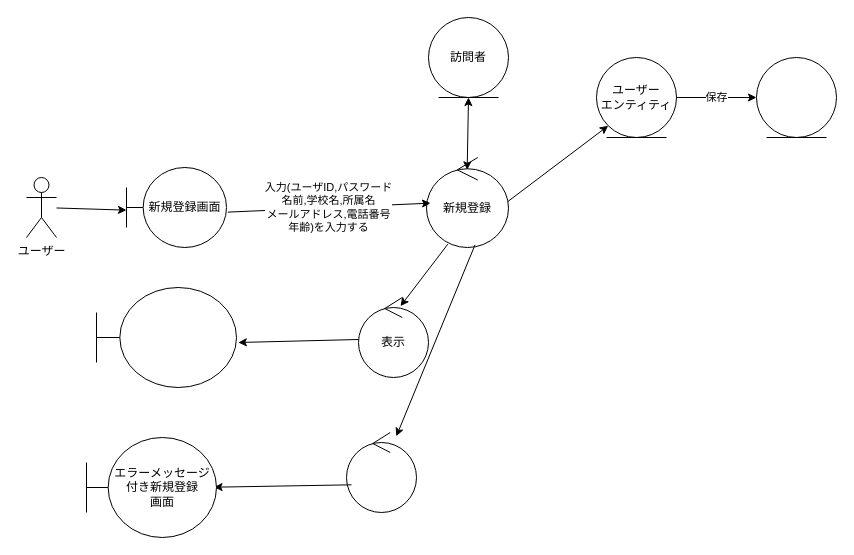
The diagram is 854 pixels wide and 555 high, and some of its shapes have lost their labels. Each missing label, with the centre of its shape:
Control Object: the point at 381,472
ユーザーDB: the point at 796,97
登録完了画面: the point at 166,337
